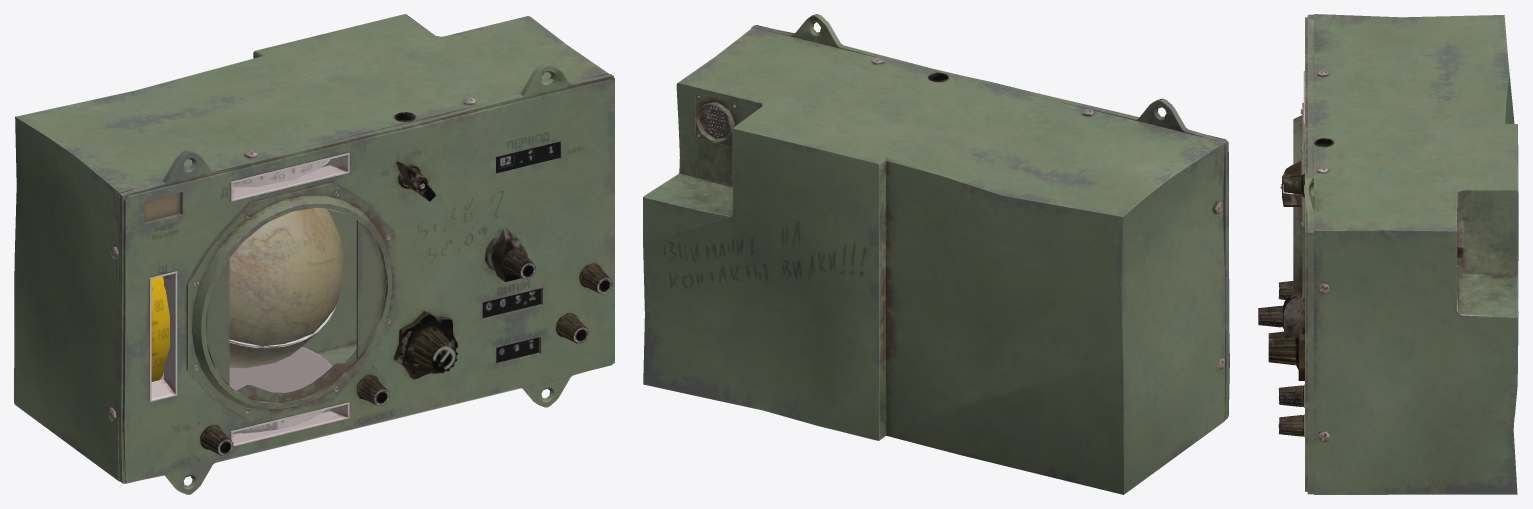
Rendered from vintage_spacecraft_instrument.glb.
The picture shows the model from 3 angles, left to right: view 1: azimuth 30°, elevation 25°; view 2: azimuth 150°, elevation 25°; view 3: azimuth 270°, elevation 25°; orthographic projection. The views are drawn at different scales.
Visible parts, largest first — view 1: vintage_spacecraft_instrument; view 2: vintage_spacecraft_instrument; view 3: vintage_spacecraft_instrument.
Part boxes in pixels (bbox=[...]): vintage_spacecraft_instrument: bbox=[14, 14, 614, 494]; vintage_spacecraft_instrument: bbox=[643, 14, 1229, 494]; vintage_spacecraft_instrument: bbox=[1258, 14, 1518, 494].
Size of the model in its own units: 0.4103 by 0.2701 by 0.2044.
2 materials, 2 textured.
